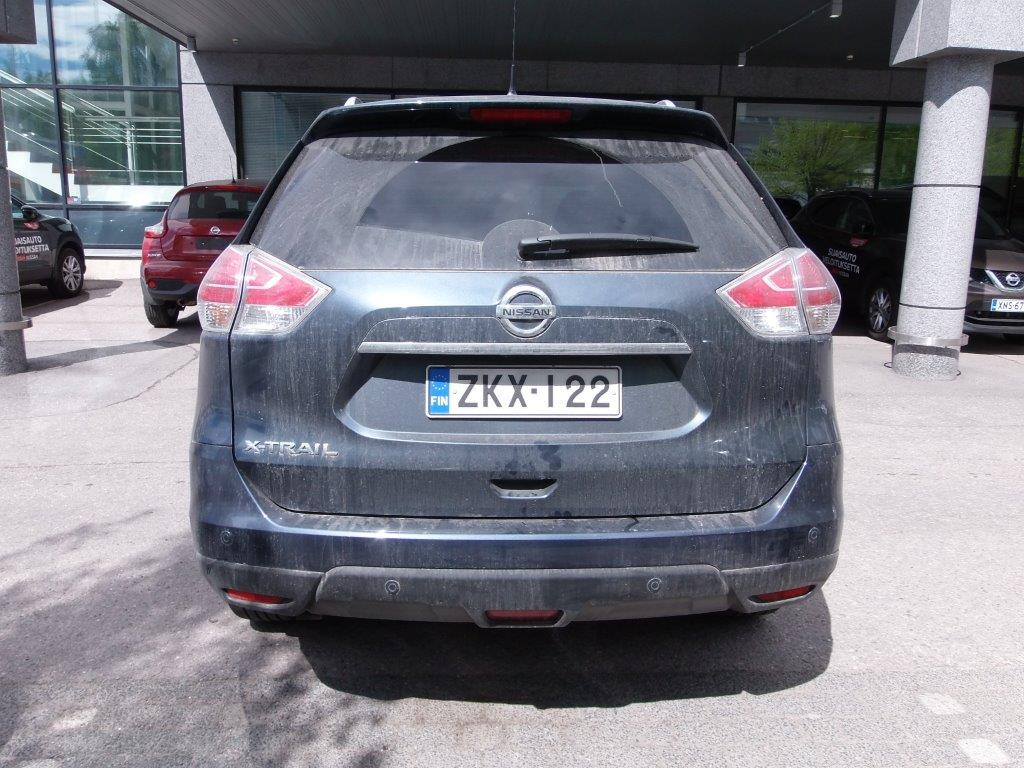license: (422, 354, 619, 423)
